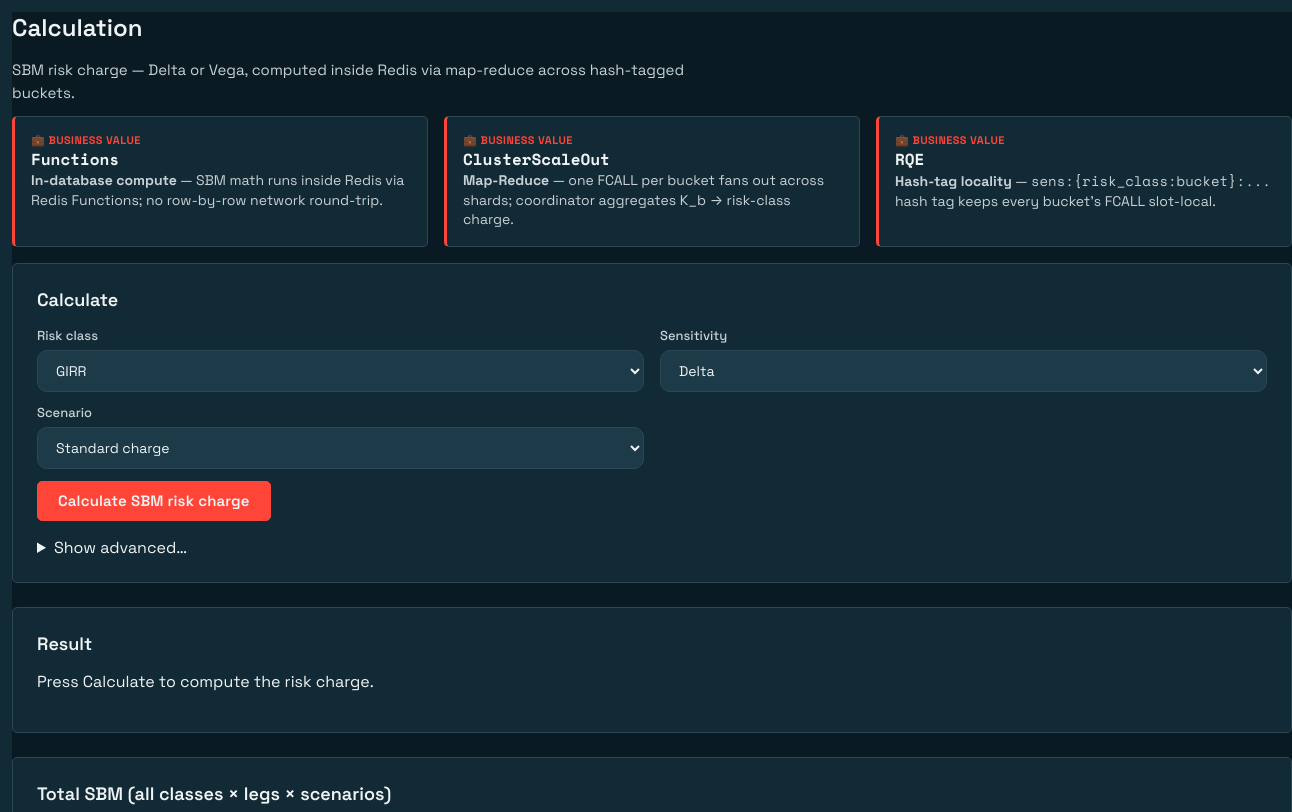
Test: Scenario dropdown › RegimeBadge reflects the regime echoed by the api response (not just the picker)
The width and height of the screenshot is (1292, 812).
What coordinates should you click on to do the following:
click the button "Calculate SBM risk charge"
I would click on:
 (154, 501)
Its box is [37,481,271,521].
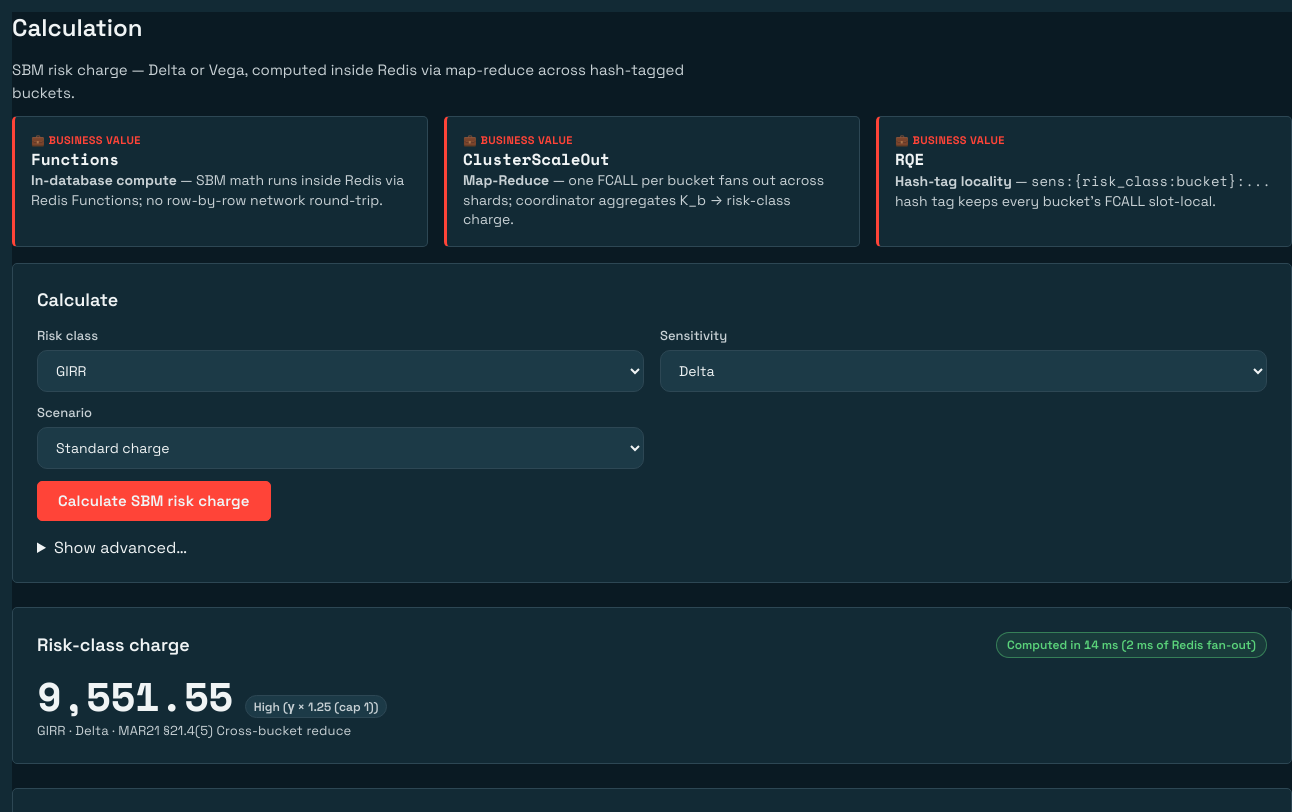
Now the text with test id "regime-badge" shows "High", box [254,699,280,715]
